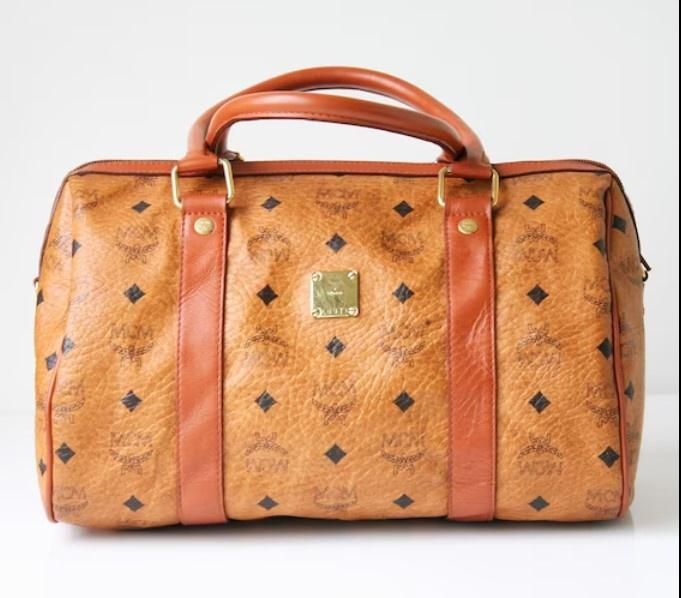MCM: (34, 159, 654, 534)
